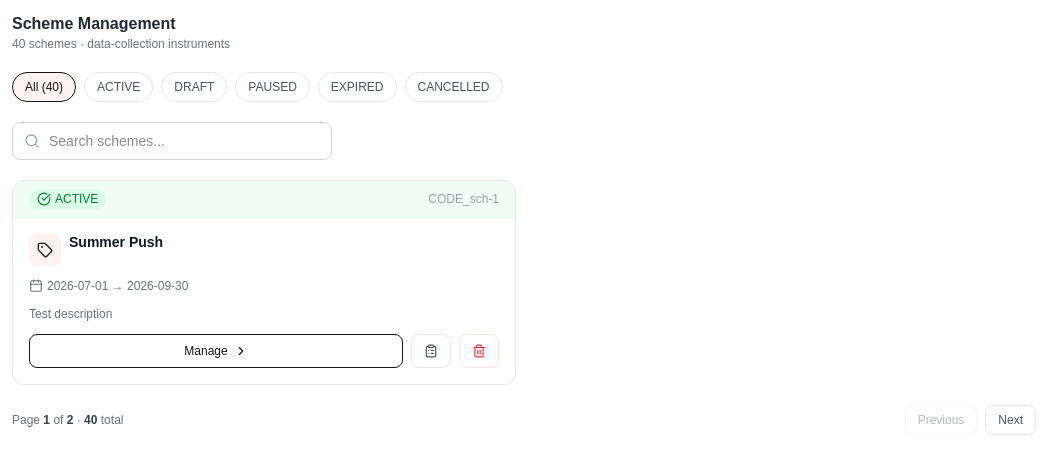
Test case: Admin Schemes page › renders Prev/Next for multi-page results and Next advances the page (server refetch)
Check: the heading "Summer Push" is shown, box left=69, top=234, right=163, bottom=252
Click the button "Next" at (1011, 420), box left=985, top=405, right=1036, bottom=435
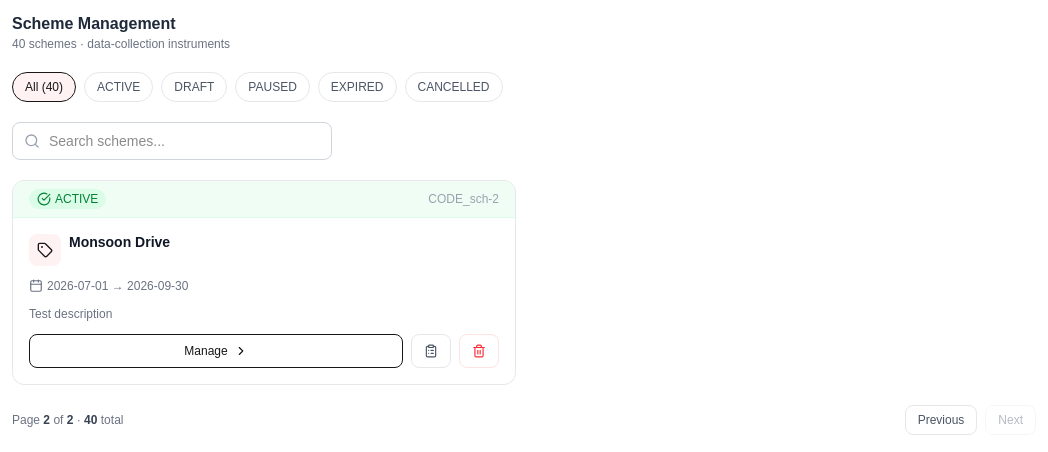
Check: the heading "Monsoon Drive" is shown, box left=69, top=234, right=170, bottom=252
